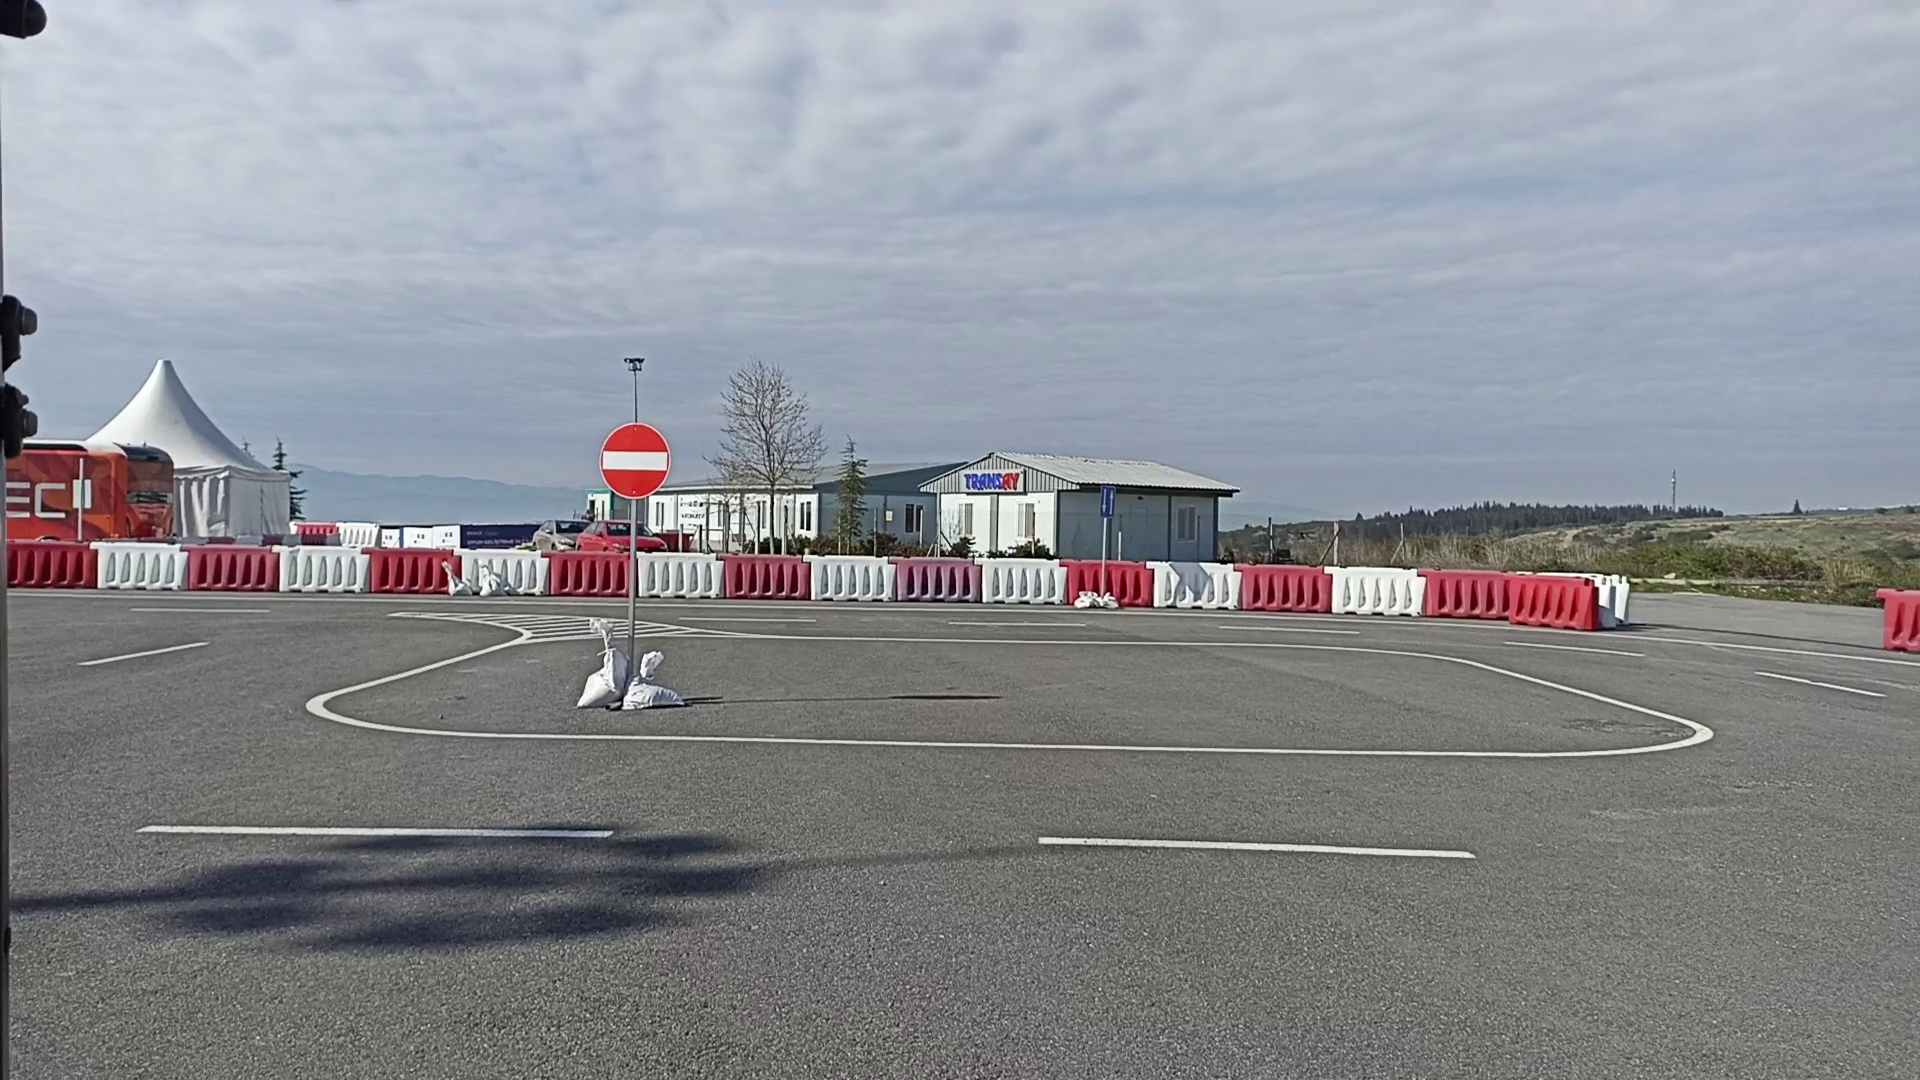noentryway: (597, 421, 673, 501)
